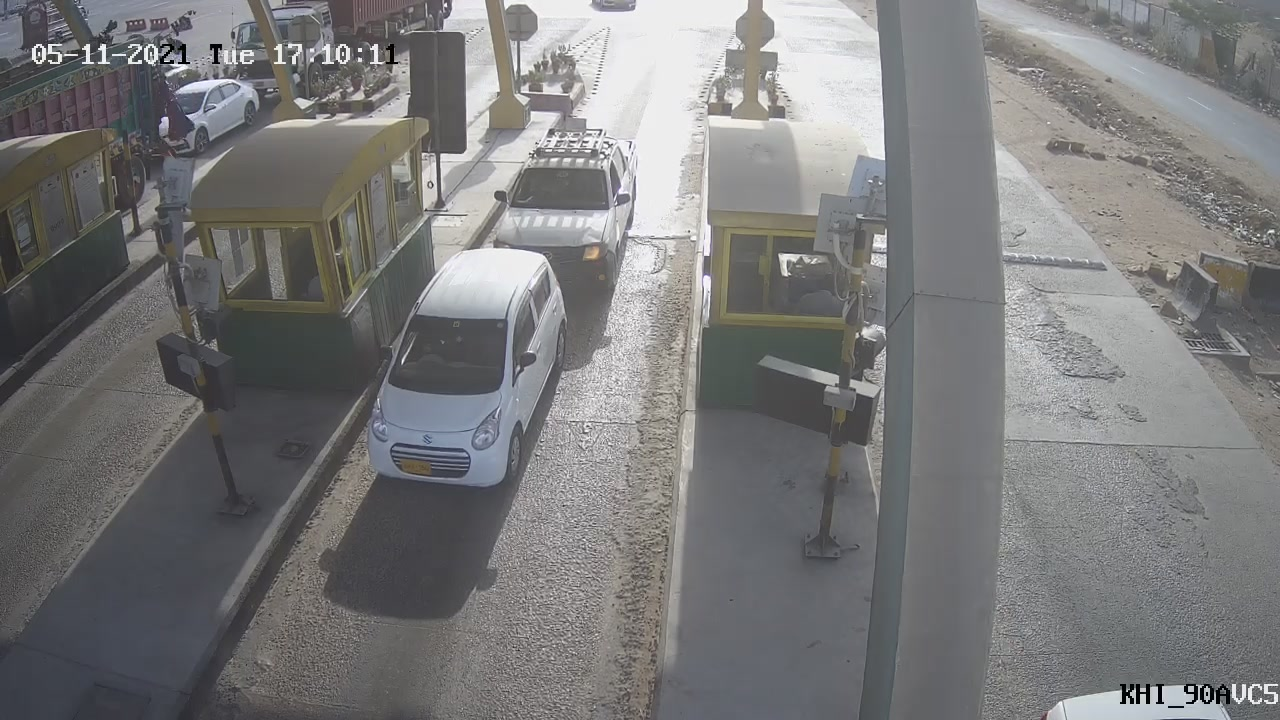F1: (346, 233, 589, 505), (478, 109, 659, 307)
